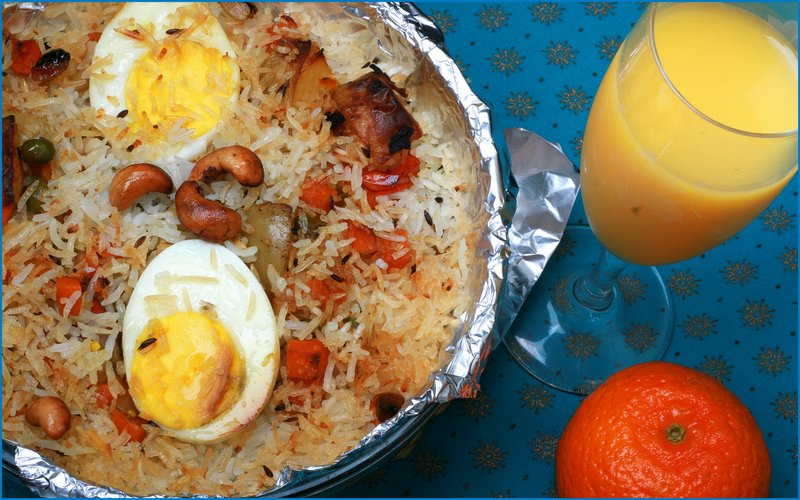fried egg: (124, 242, 274, 456), (103, 3, 246, 156)
plain rice: (12, 14, 468, 477)
